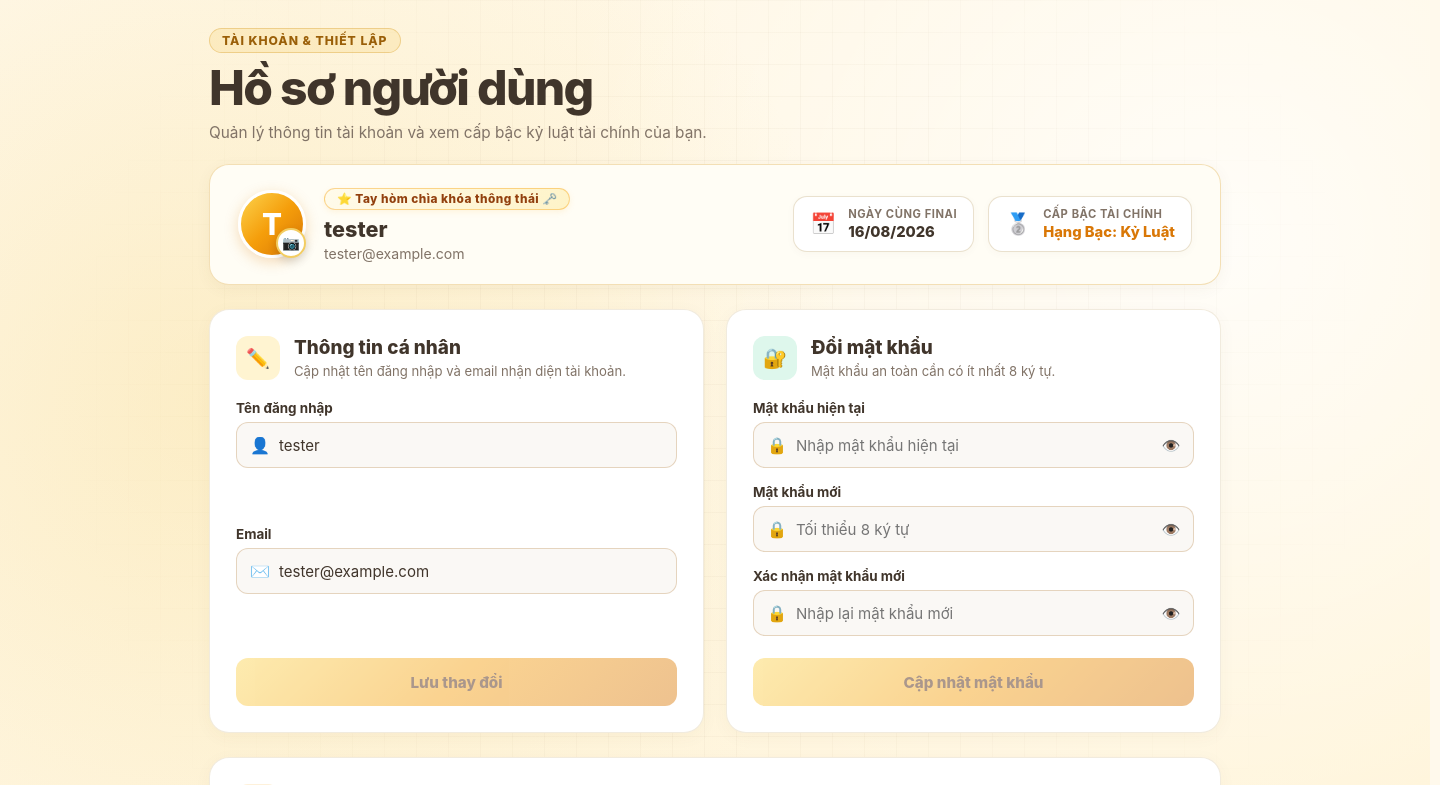
Profile › updates profile information and auth context
Replace the text in the field labelled "Tên đăng nhập" with "tester-new" at {"x": 456, "y": 445}, box [236,422,677,468]
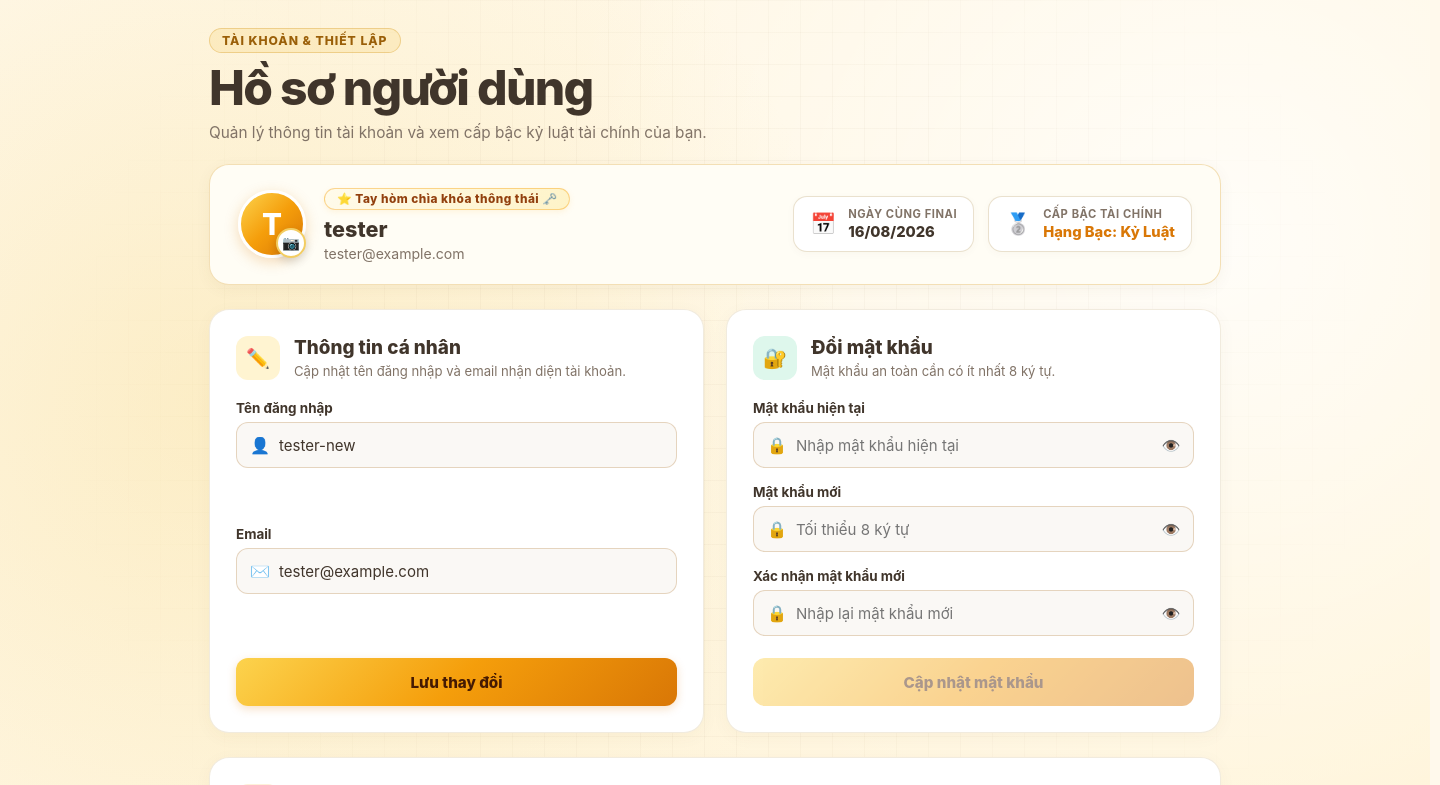
Click the button "Lưu thay đổi" at {"x": 456, "y": 682}, box [236,658,677,706]
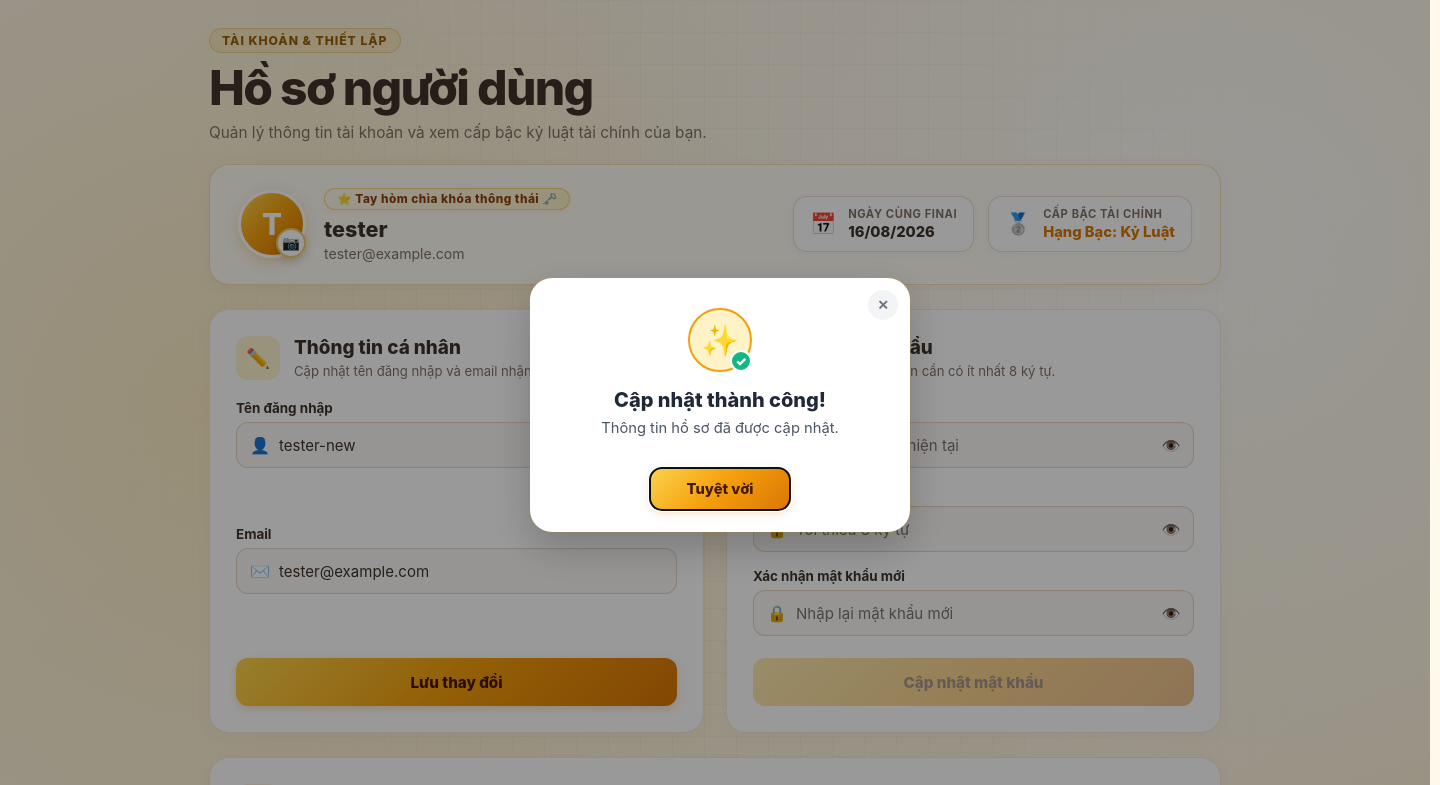
Result: the text "Thông tin hồ sơ đã được cập nhật." is shown at [601,419,839,437]
